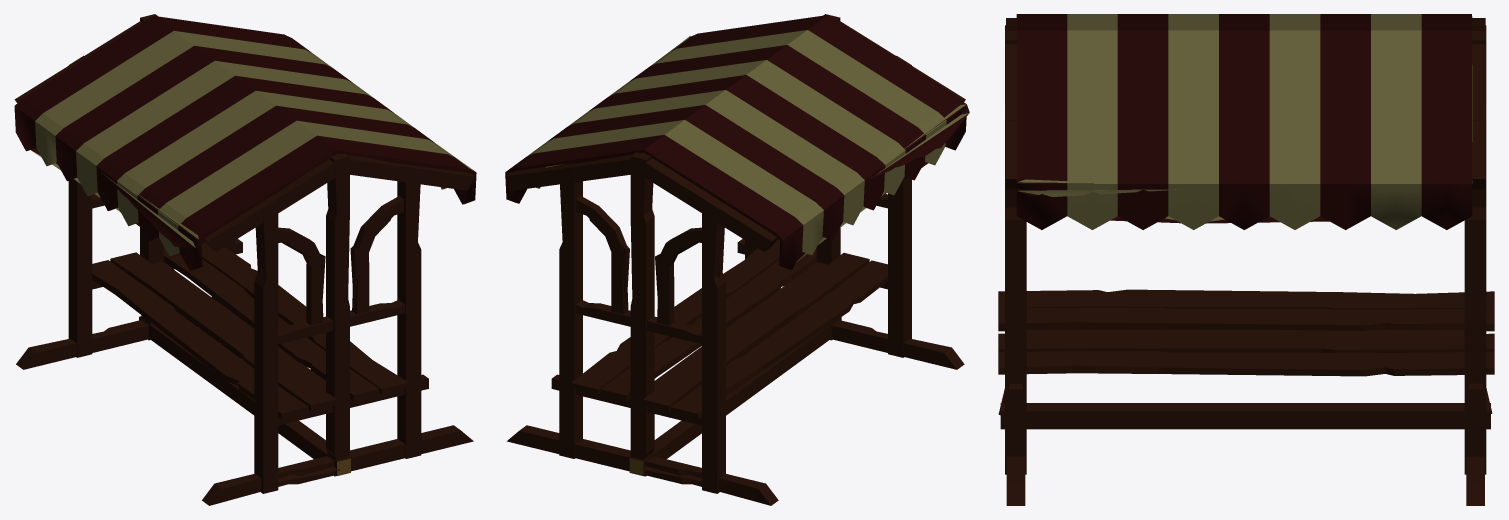
File: MarketStand_1.fbx
3 renders of one model, left to right at view 1: azimuth 30°, elevation 25°; view 2: azimuth 150°, elevation 25°; view 3: azimuth 270°, elevation 25°, orthographic. The views are drawn at different scales.
Visible parts, largest first — view 1: High_MarketStand_1, Low_MarketStand_1; view 2: High_MarketStand_1, Low_MarketStand_1; view 3: High_MarketStand_1, Low_MarketStand_1.
Boxes of the visible parts, bbox=[...] form: High_MarketStand_1: bbox=[14, 14, 476, 505]; Low_MarketStand_1: bbox=[31, 146, 476, 485]; High_MarketStand_1: bbox=[505, 14, 966, 505]; Low_MarketStand_1: bbox=[545, 36, 969, 485]; High_MarketStand_1: bbox=[998, 14, 1494, 505]; Low_MarketStand_1: bbox=[998, 65, 1492, 415].
Size of the model in its own units: 96.07 by 105 by 119.
